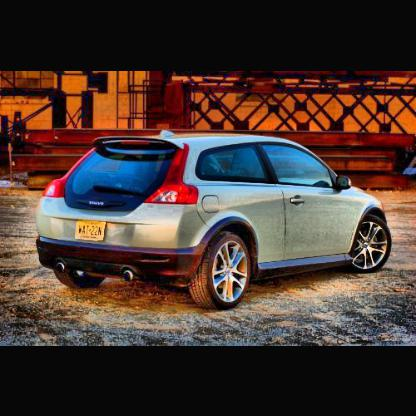Volvo C30 Hatchback 2012: (36, 128, 397, 311)
